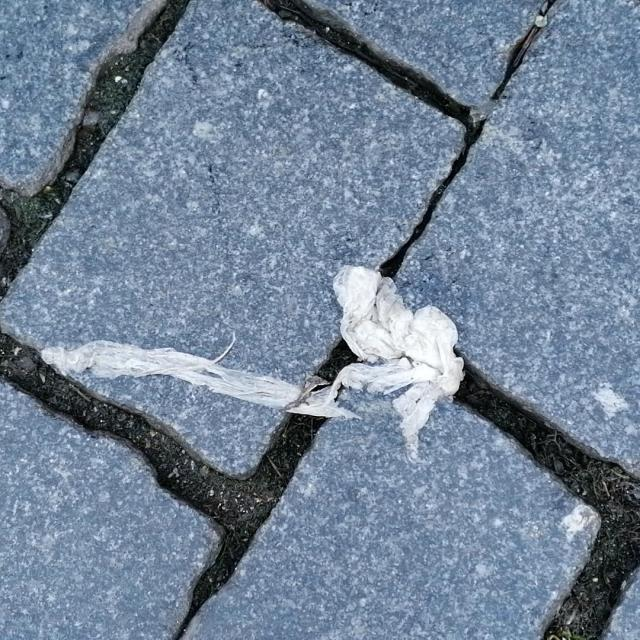Paper: (322, 264, 465, 448)
